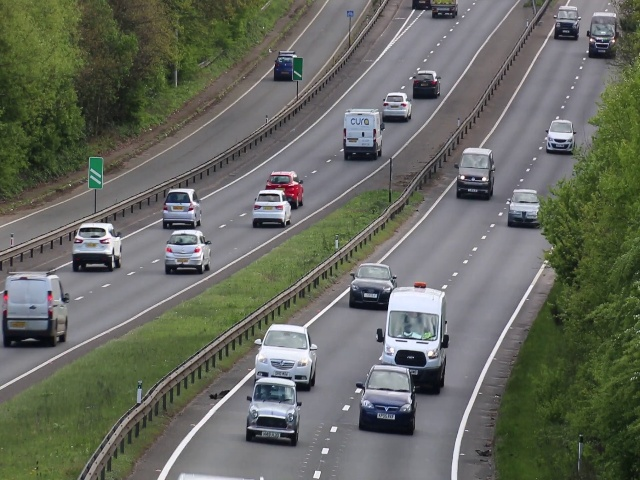car: (1, 272, 70, 349), (243, 378, 308, 448), (356, 363, 417, 436), (383, 302, 447, 361), (254, 326, 319, 374), (72, 221, 123, 271), (161, 230, 214, 275), (345, 261, 395, 307), (454, 147, 495, 200), (339, 108, 382, 158), (158, 189, 203, 228), (251, 191, 293, 229), (505, 188, 543, 227), (546, 116, 576, 154), (381, 87, 412, 120), (412, 66, 441, 100), (553, 8, 580, 44), (591, 15, 613, 59), (272, 46, 295, 85), (267, 170, 302, 190)
